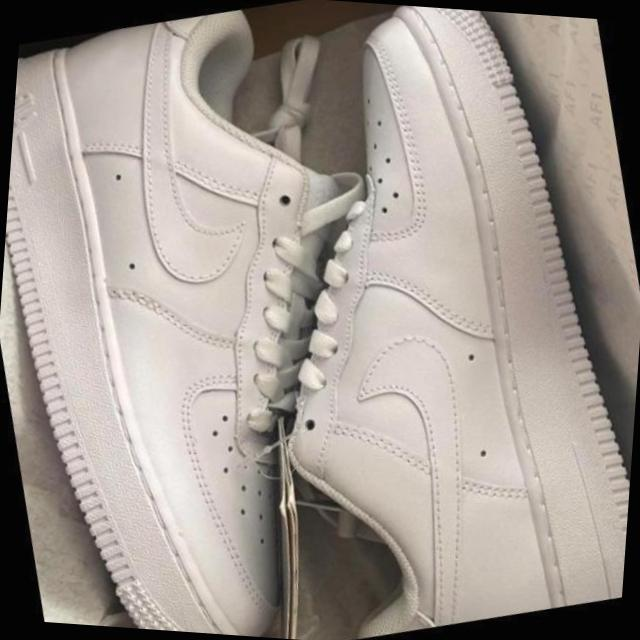nike_original_airforce: (0, 0, 468, 640), (183, 0, 640, 640)
